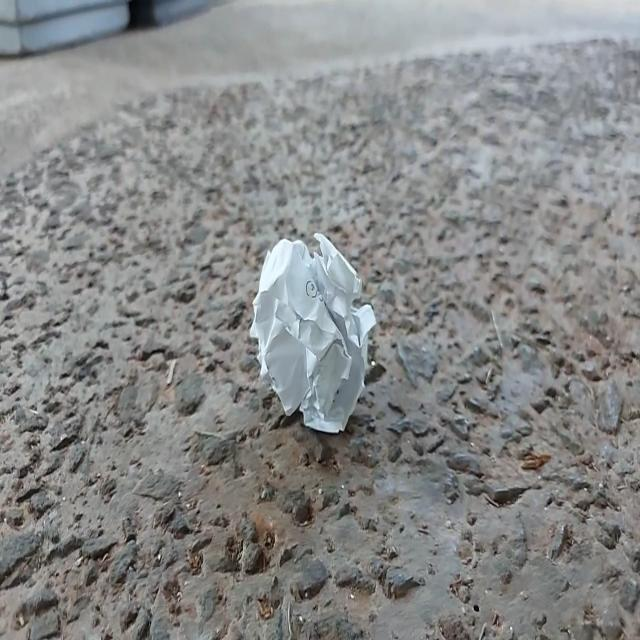Paper: (236, 205, 391, 454)
